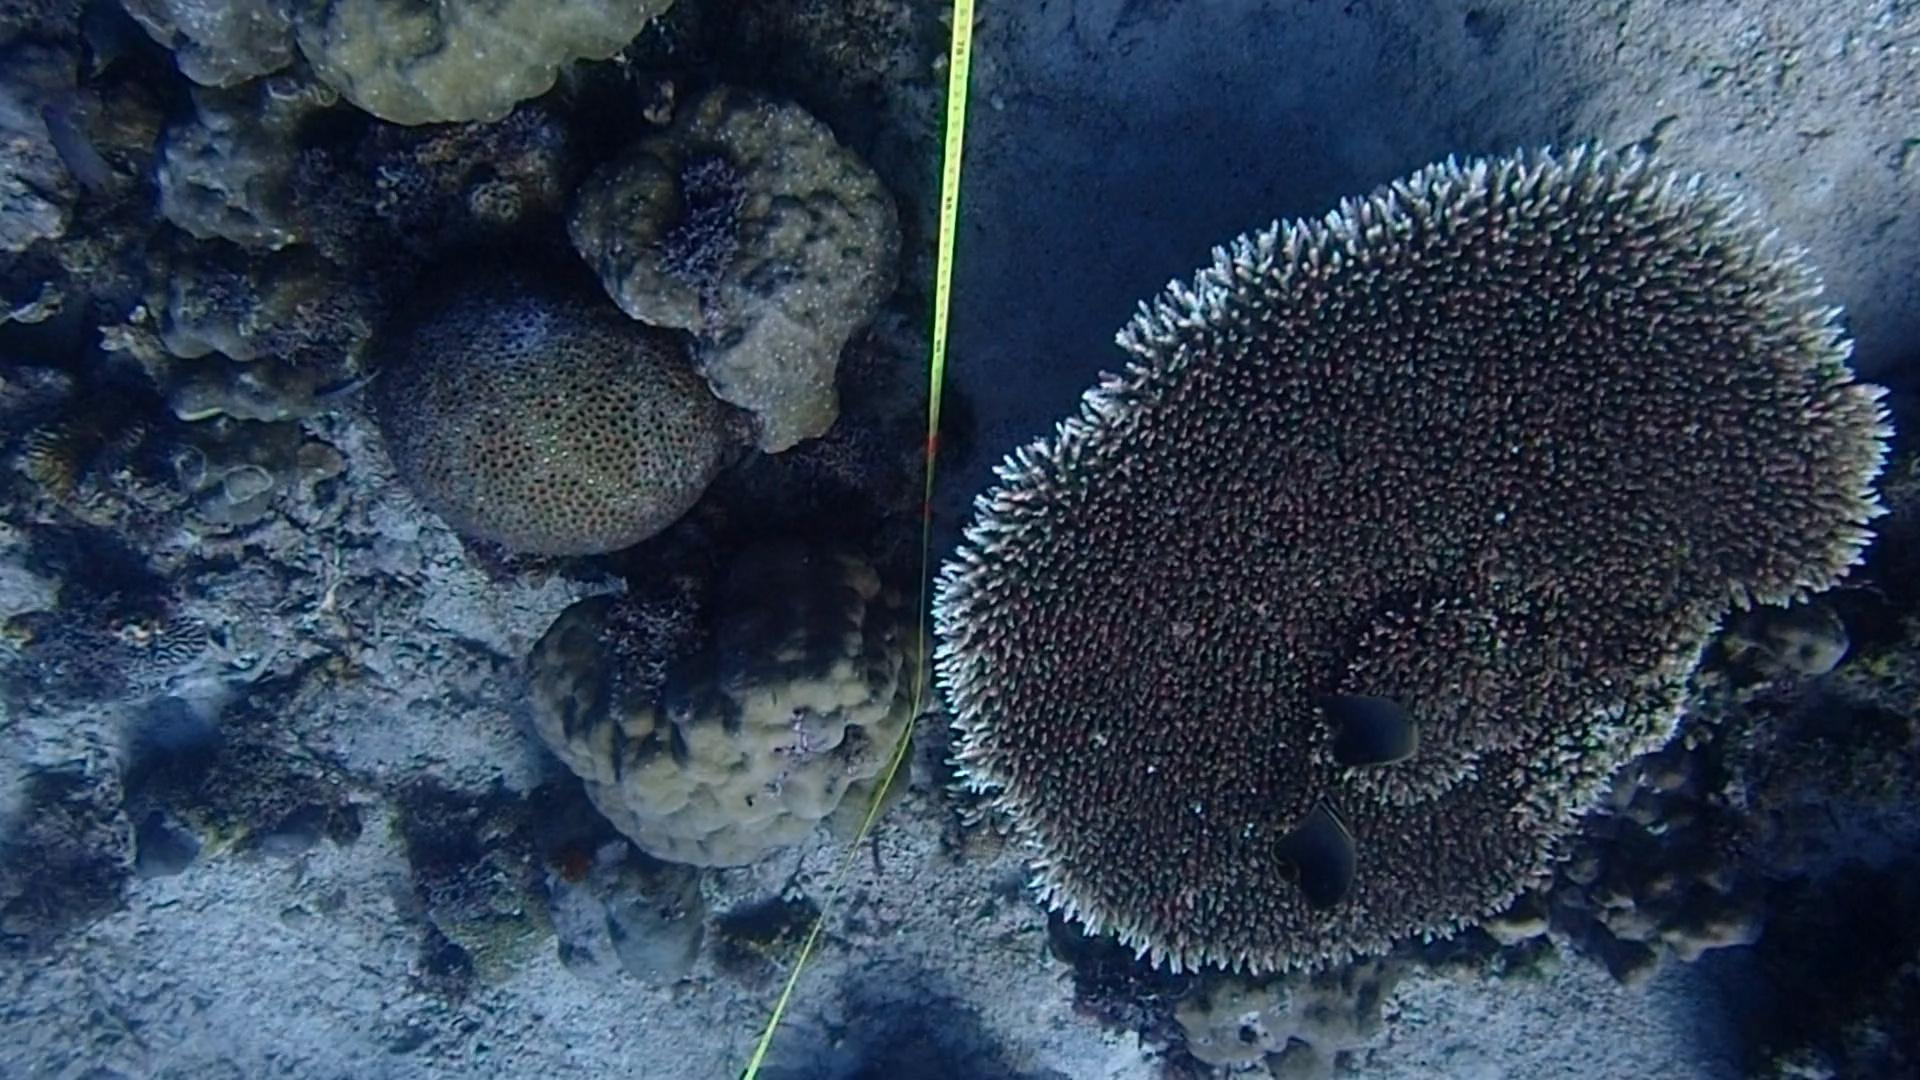Dark Blue Dory: (1317, 683, 1448, 785), (1273, 800, 1373, 923)
Light Fish: (307, 365, 377, 411)
